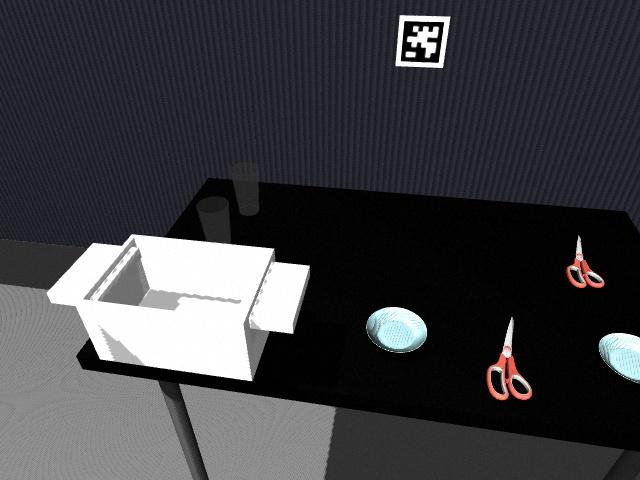cup: (196, 198, 230, 244), (232, 168, 260, 216)
plate: (363, 306, 430, 355), (593, 326, 640, 381), (372, 309, 402, 331), (611, 335, 640, 352), (370, 317, 385, 343)
scissors: (481, 308, 534, 407), (569, 234, 608, 289)
